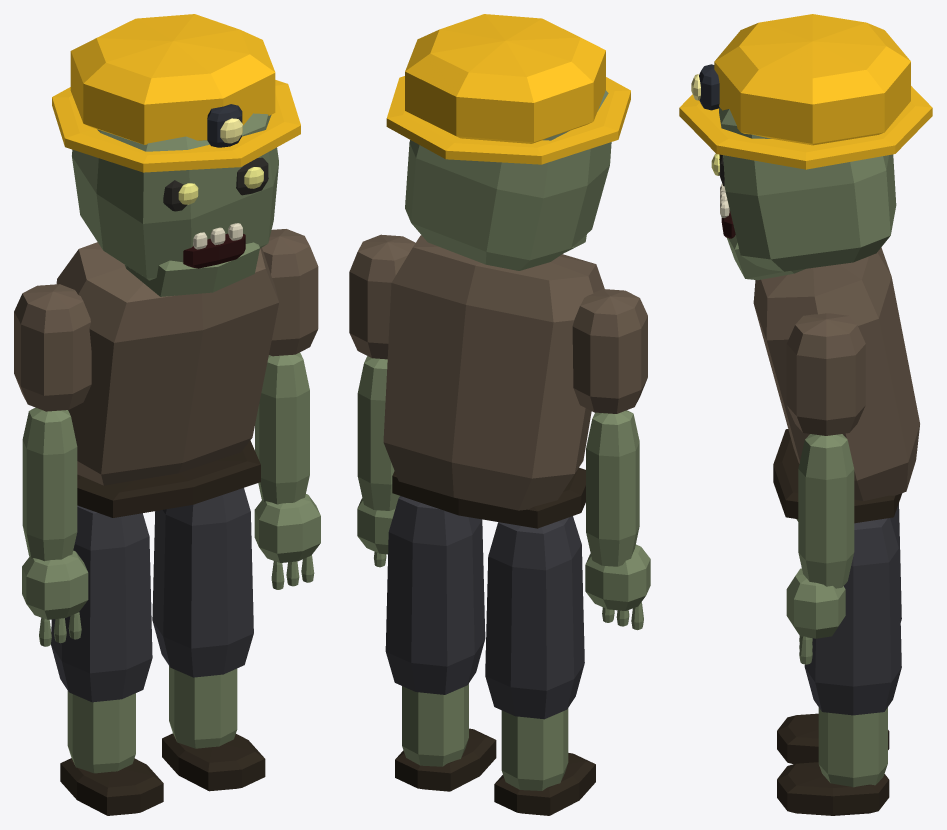
The model's file is mon-miner-1.glb.
The picture shows the model from 3 angles, left to right: view 1: azimuth 30°, elevation 25°; view 2: azimuth 150°, elevation 25°; view 3: azimuth 270°, elevation 25°; orthographic projection.
Visible parts, largest first — view 1: head, torso, leg-left, leg-right, arm-right, arm-left; view 2: torso, head, leg-right, leg-left, arm-right, arm-left; view 3: head, torso, leg-left, arm-left, leg-right.
Part boxes in pixels (x1,y1,x2,y2): head: (52, 14, 300, 296); torso: (56, 242, 279, 517); leg-left: (152, 488, 265, 791); leg-right: (51, 505, 163, 815); arm-right: (14, 284, 91, 646); arm-left: (254, 229, 320, 589); torso: (383, 235, 604, 528); head: (386, 14, 630, 270); leg-right: (485, 516, 595, 815); leg-left: (385, 496, 496, 791); arm-right: (572, 289, 650, 630); arm-left: (349, 234, 415, 567); head: (679, 14, 932, 280); torso: (753, 247, 919, 523); leg-left: (777, 518, 901, 815); arm-left: (786, 313, 865, 664); leg-right: (777, 503, 901, 764).
Bounding box in the file's own units: 0.9745 × 2.41 × 0.7486.
